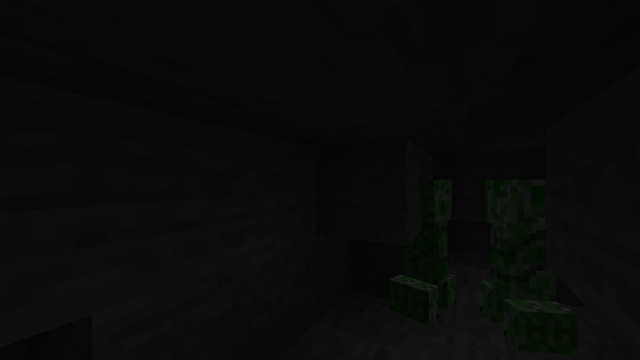creepers: (487, 171, 568, 354), (393, 172, 450, 324)
